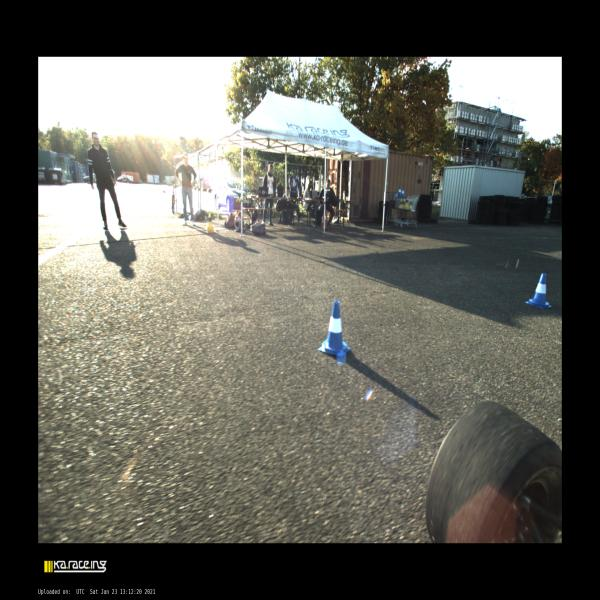blue_cone: (318, 300, 351, 356), (524, 272, 552, 309), (397, 186, 402, 197), (401, 188, 405, 198)
yellow_cone: (206, 212, 214, 228), (398, 197, 403, 209), (405, 196, 409, 208), (409, 199, 412, 210), (403, 199, 406, 209)
